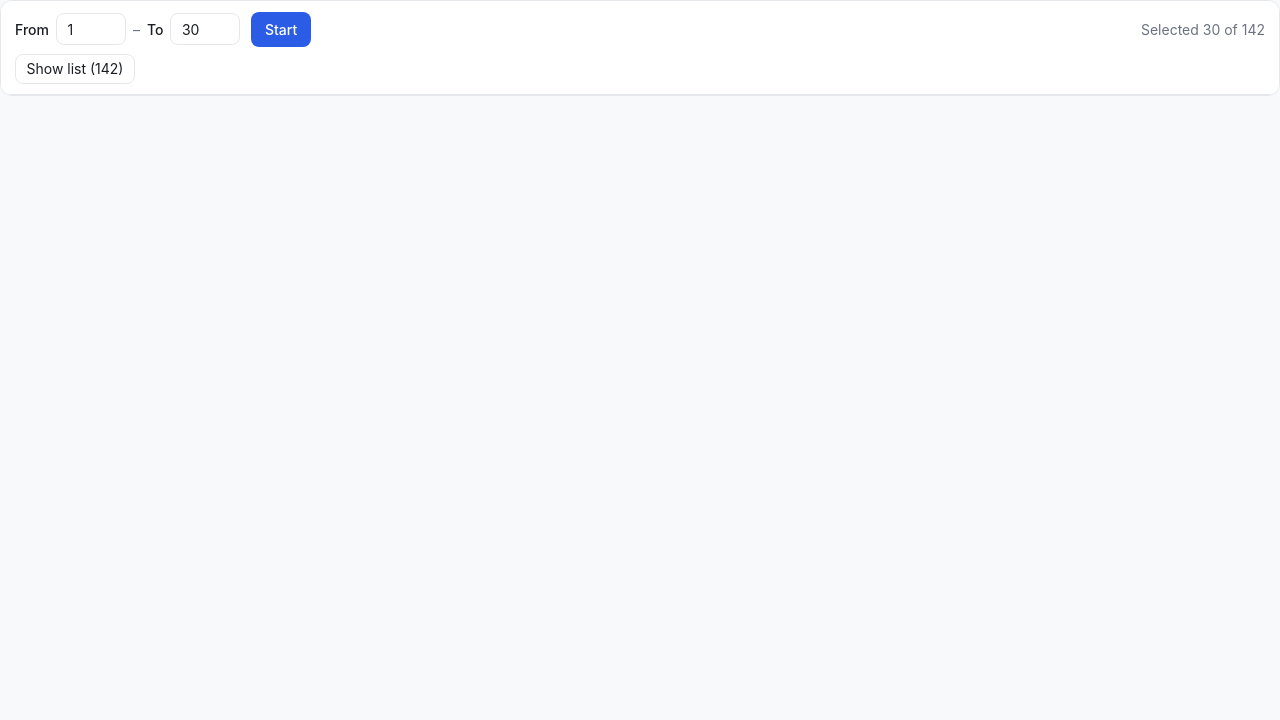
ChapterList 1.4 - selection helpers › Shift 10→40 bulk select adds range
The width and height of the screenshot is (1280, 720).
What coordinates should you click on to do the following:
click the button with test id "chapter-list-toggle"
I would click on:
 (75, 68)
Its box is [15,54,135,84].
(page scrolled)
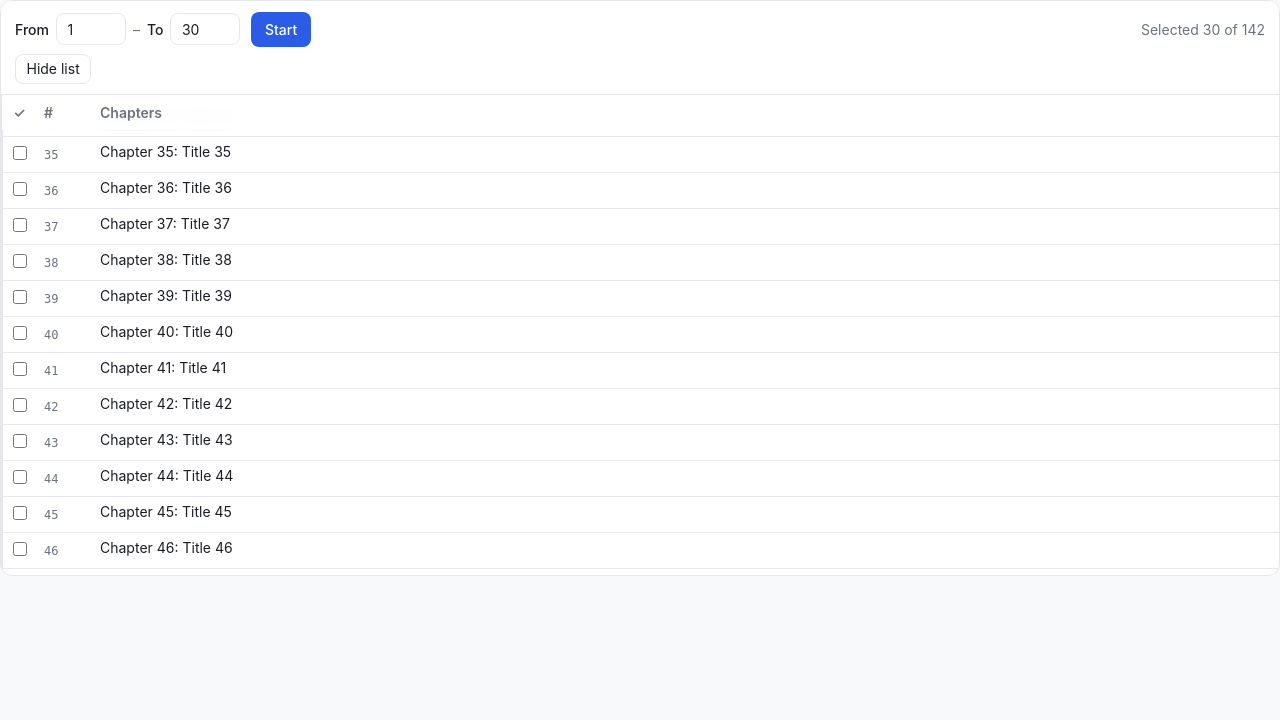
What coordinates should you click on to do the following:
click the row with test id "chapter-row-40"
I would click on:
 (640, 334)
Its box is [2,316,1279,352].
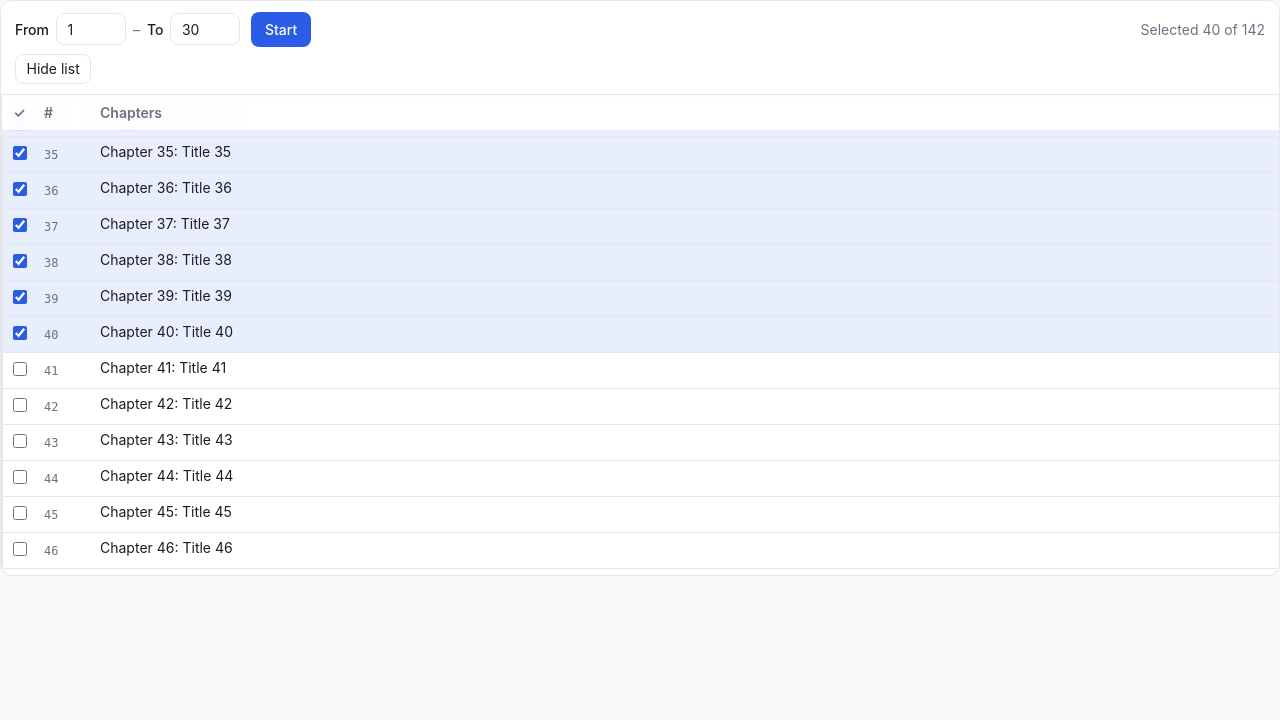
Result: the text with test id "selected-label" shows "40" at [1141,20,1265,38]
